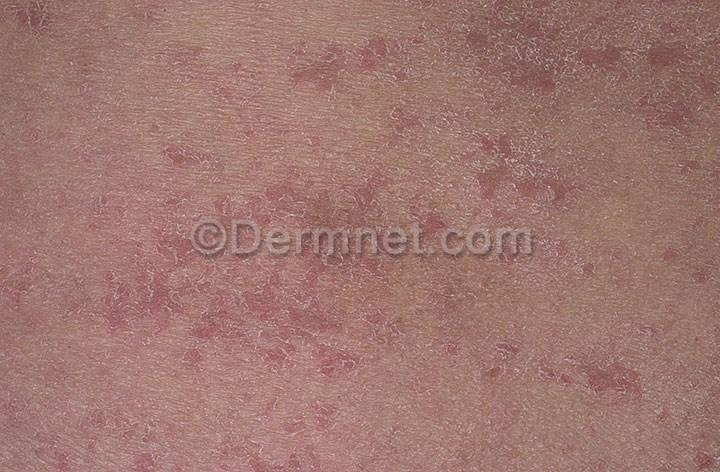Eczema: (47, 188, 211, 356), (206, 217, 338, 376), (20, 364, 178, 472), (467, 121, 577, 274), (452, 0, 587, 112), (578, 0, 695, 115), (339, 195, 470, 293), (122, 66, 244, 170), (339, 290, 435, 412), (214, 383, 345, 472), (360, 96, 467, 204), (440, 308, 548, 414), (559, 323, 667, 425), (217, 147, 356, 220), (265, 23, 361, 128), (345, 13, 460, 99), (638, 220, 712, 307), (0, 0, 89, 65), (136, 3, 226, 66), (0, 234, 52, 327), (561, 236, 626, 302), (655, 138, 712, 213), (660, 404, 720, 472), (698, 0, 719, 134)
